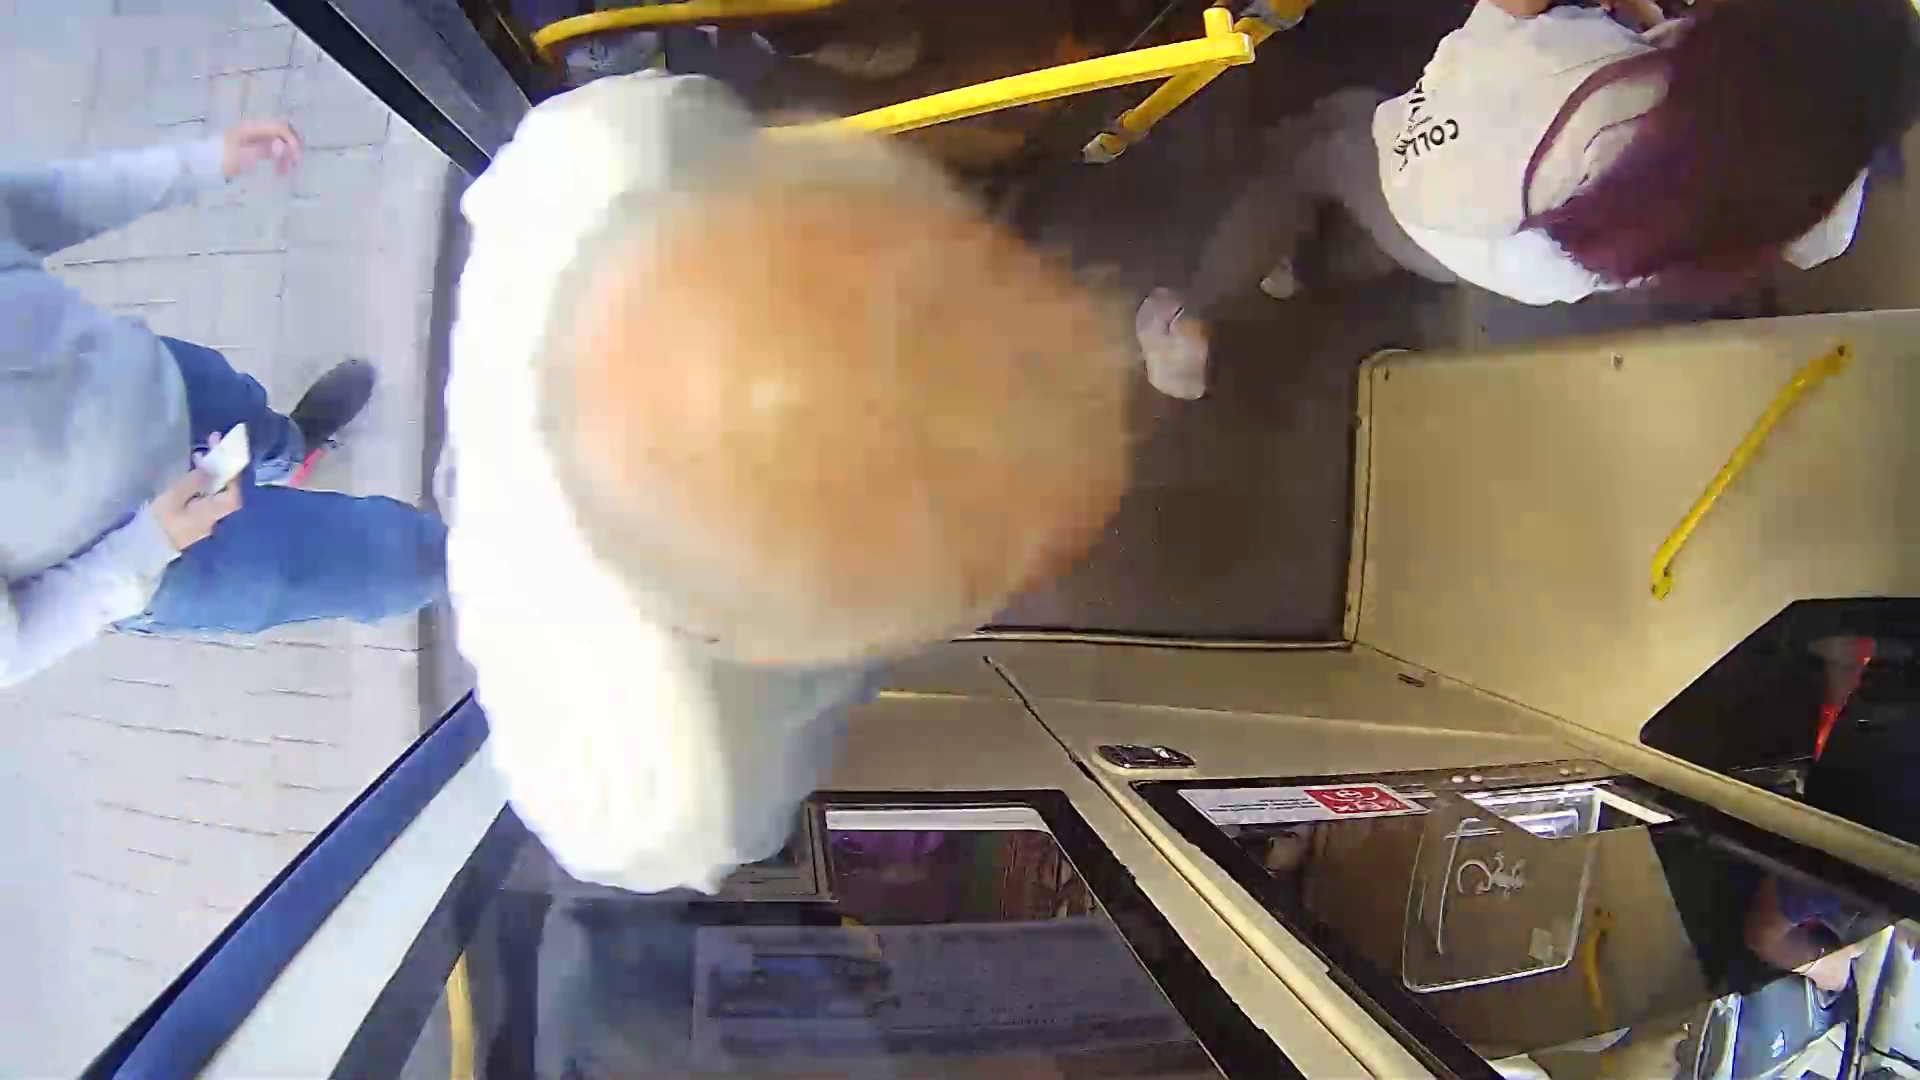person: (400, 108, 1295, 924)
